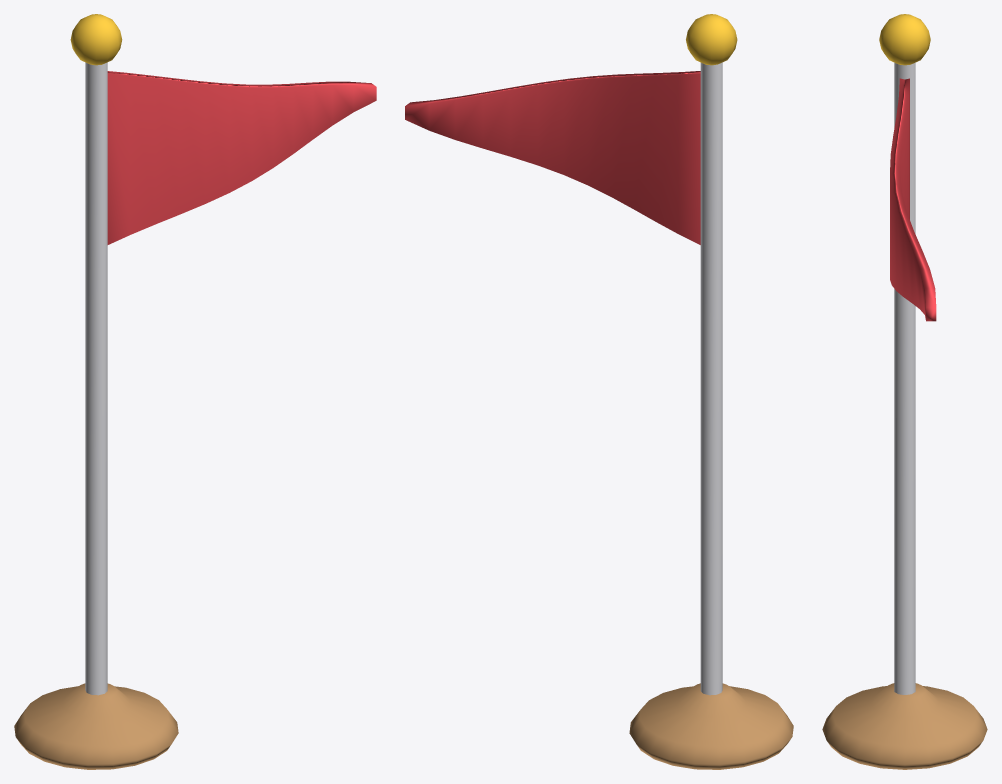
File: MechaMarathonFlag.obj
The picture shows the model from 3 angles, left to right: view 1: azimuth 30°, elevation 25°; view 2: azimuth 150°, elevation 25°; view 3: azimuth 270°, elevation 25°; orthographic projection.
Parts seen in each view (by area): view 1: Pennant, Pole, Base, Finial; view 2: Pennant, Pole, Base, Finial; view 3: Base, Pole, Pennant, Finial.
Boxes of the visible parts, x1,y1,x2,y2 form: Pennant: (107, 71, 376, 244); Pole: (85, 62, 107, 695); Base: (14, 683, 178, 769); Finial: (70, 14, 122, 65); Pennant: (405, 71, 700, 244); Pole: (700, 62, 722, 695); Base: (629, 683, 793, 769); Finial: (686, 14, 737, 65); Base: (822, 683, 987, 769); Pole: (894, 62, 915, 694); Pennant: (890, 78, 936, 321); Finial: (879, 14, 930, 65).
Size of the model in its own units: 2.43 by 4.62 by 0.96.
